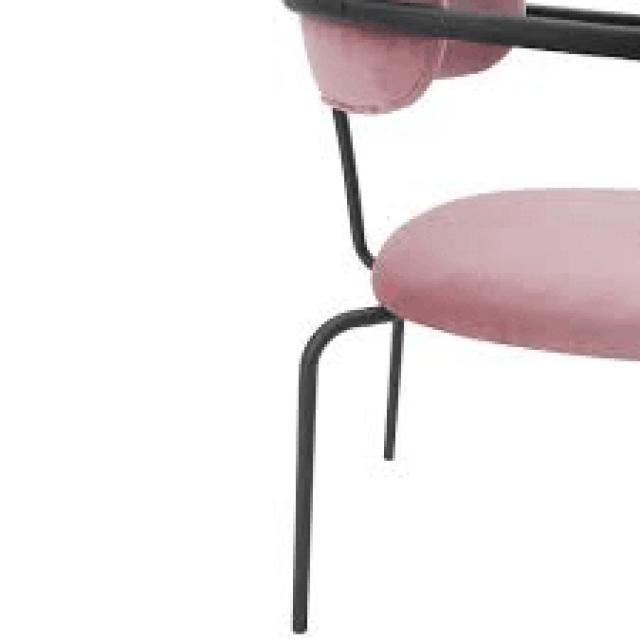chair: (270, 0, 640, 640), (293, 0, 640, 327)
